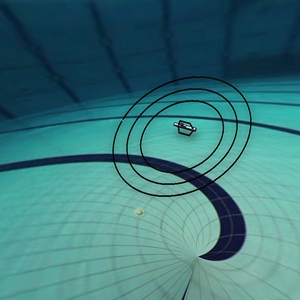circle: (108, 72, 262, 206)
